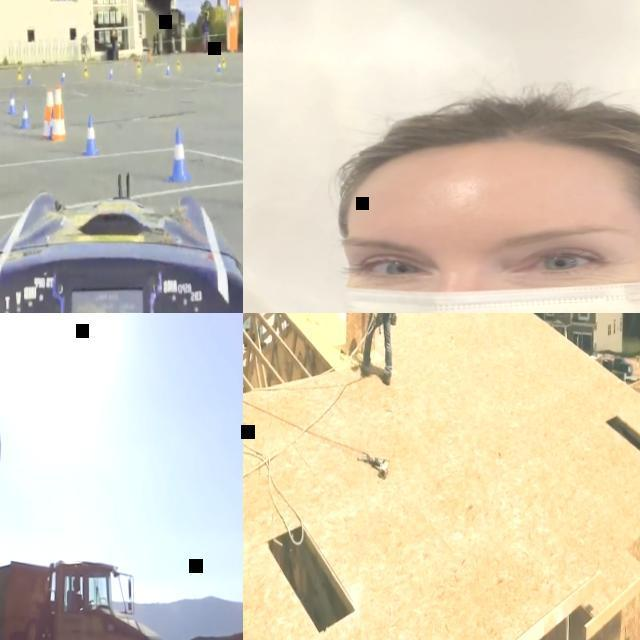no_helmet: (341, 83, 640, 195)
